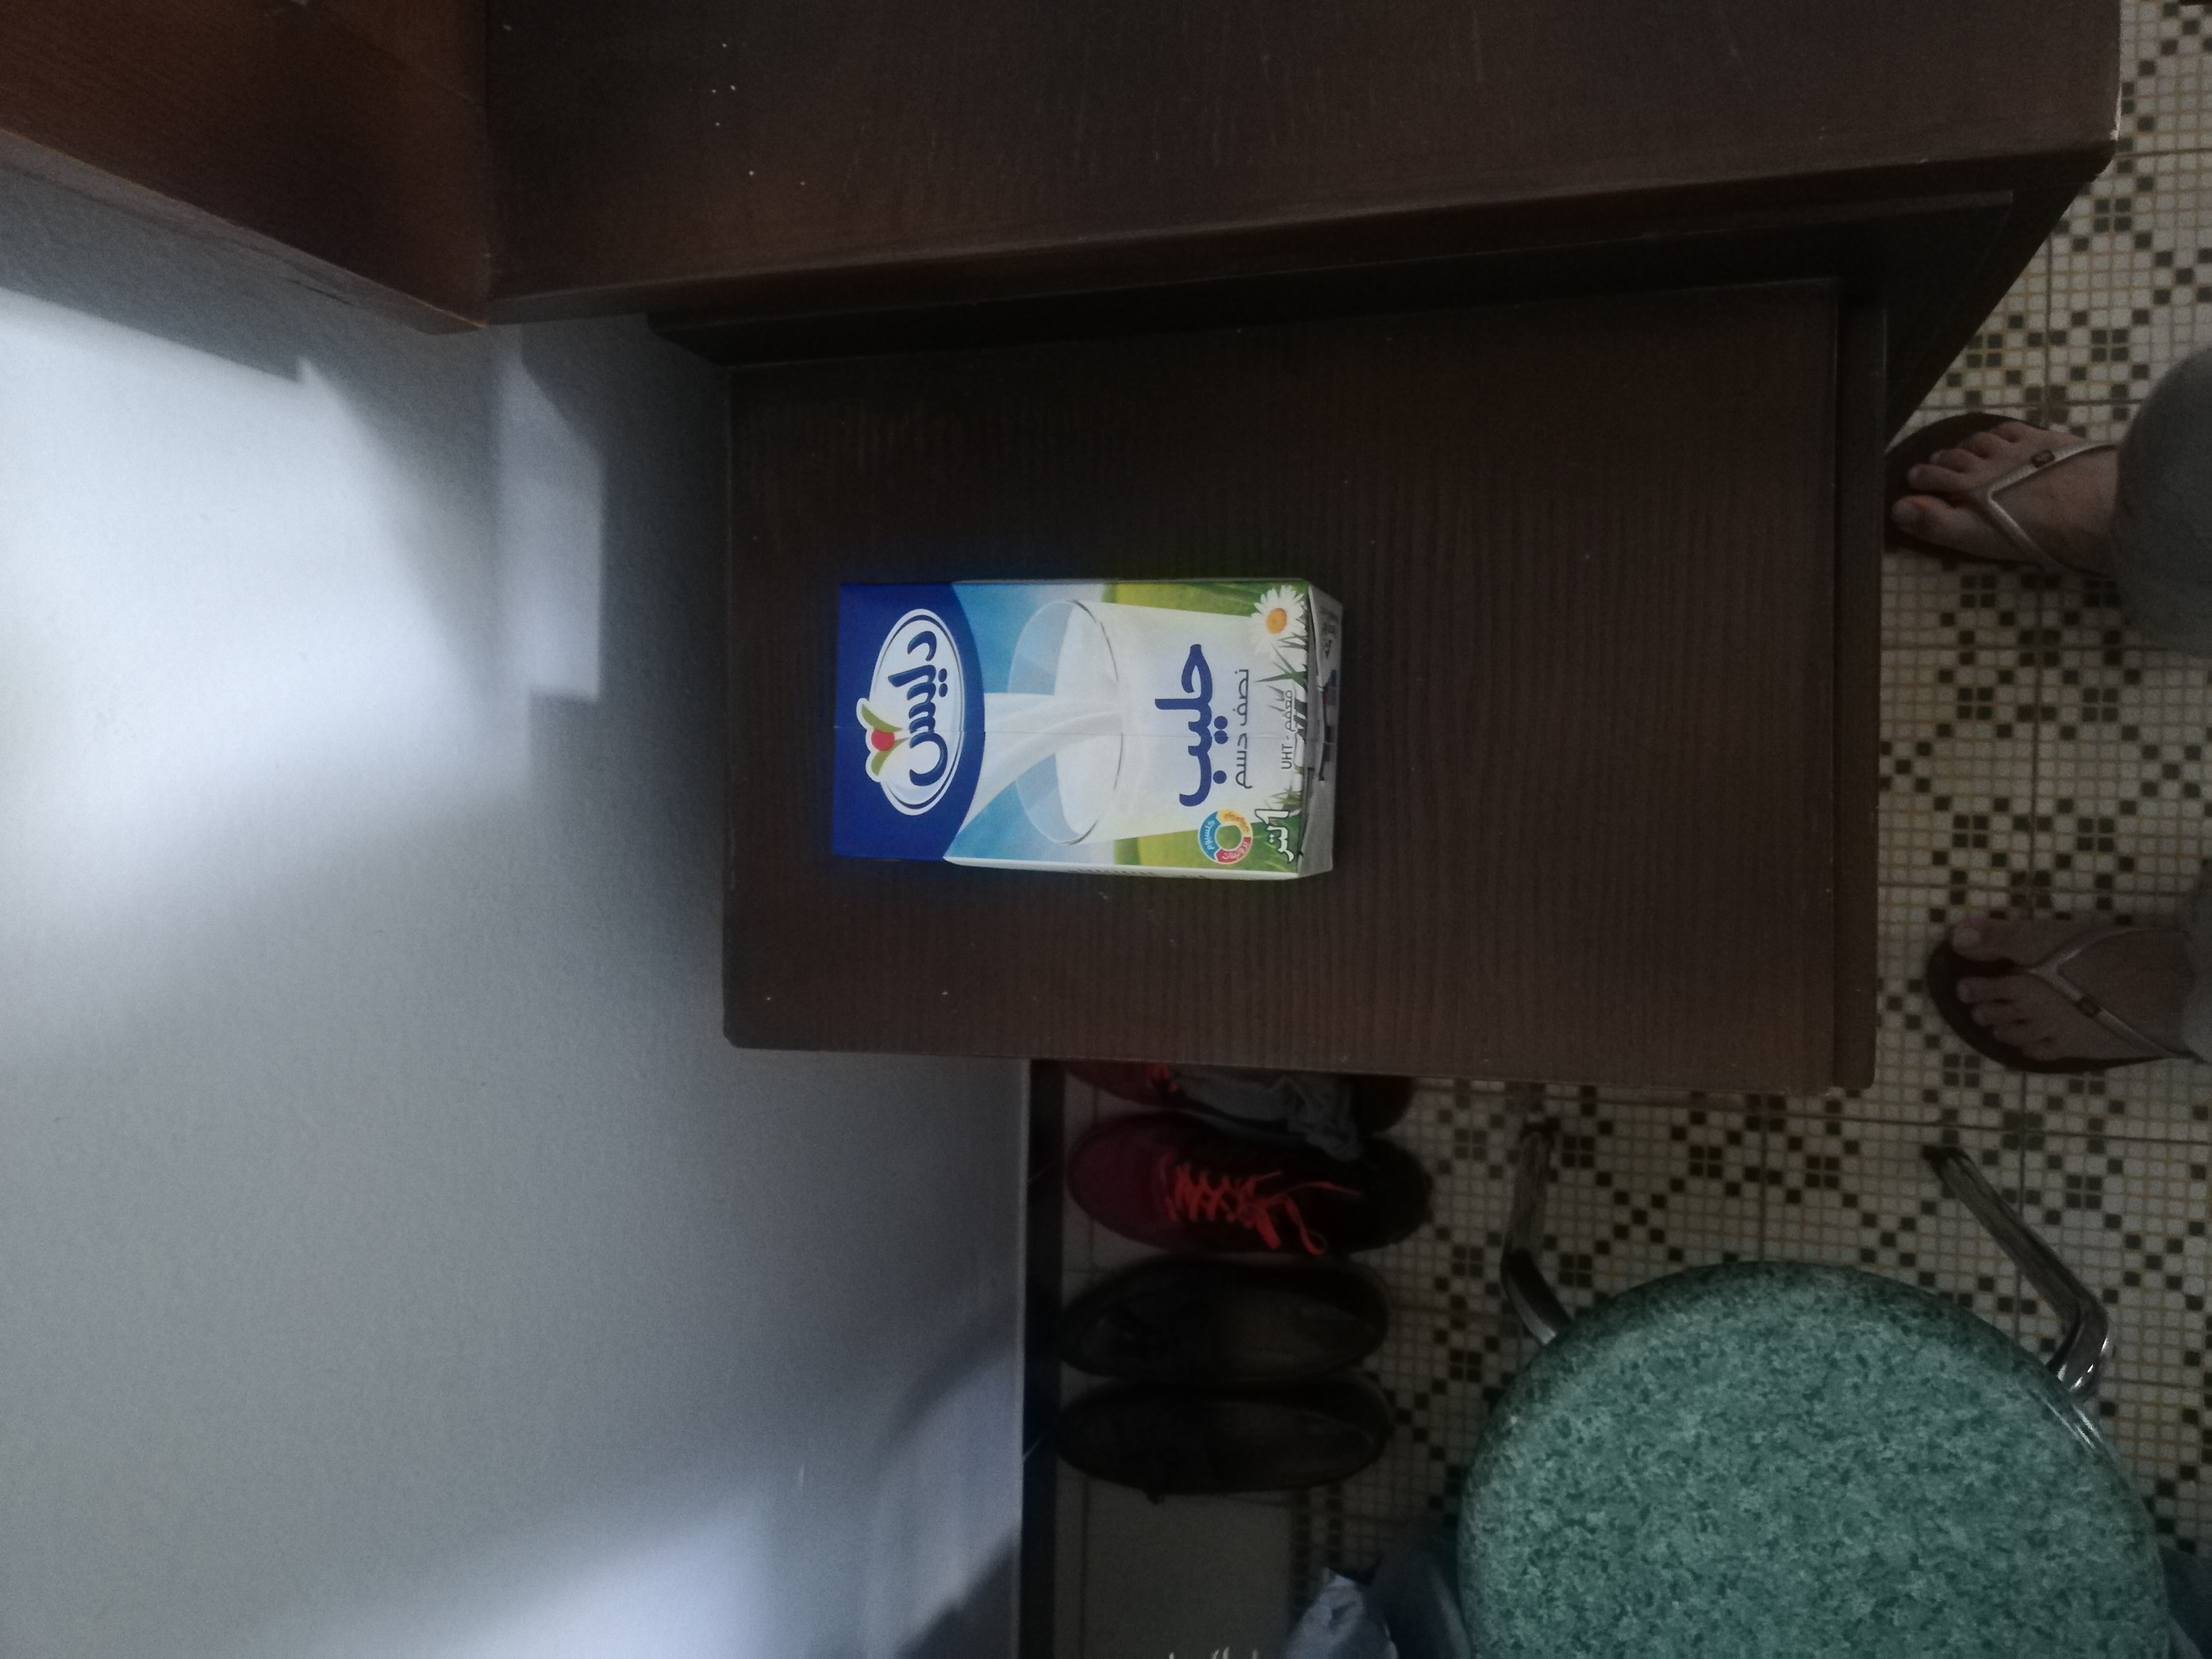Lait delice: (831, 582, 1343, 887)
